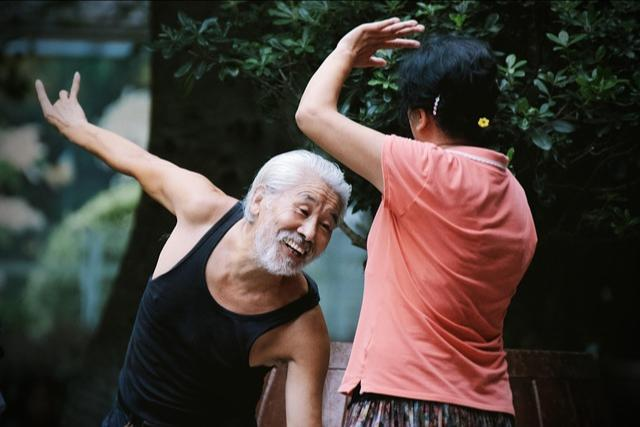Non_Gorille: (36, 11, 624, 427)
